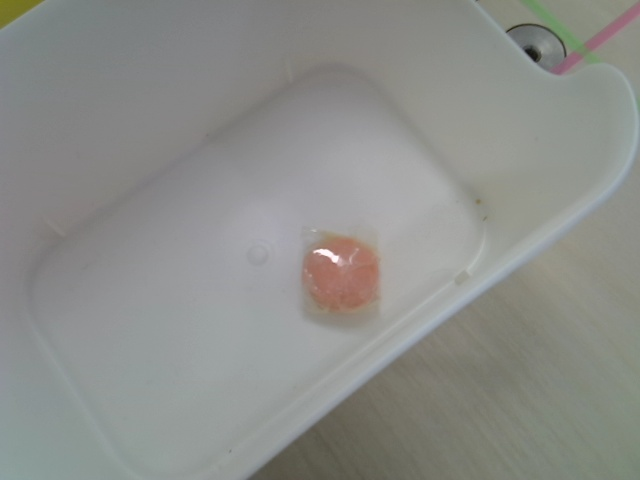씨앗: (299, 232, 387, 317)
